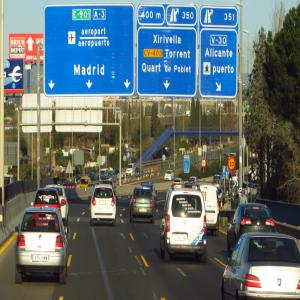Vehicle-registration-plate: (32, 253, 51, 265), (101, 199, 109, 207), (139, 208, 148, 215), (175, 236, 187, 241)
